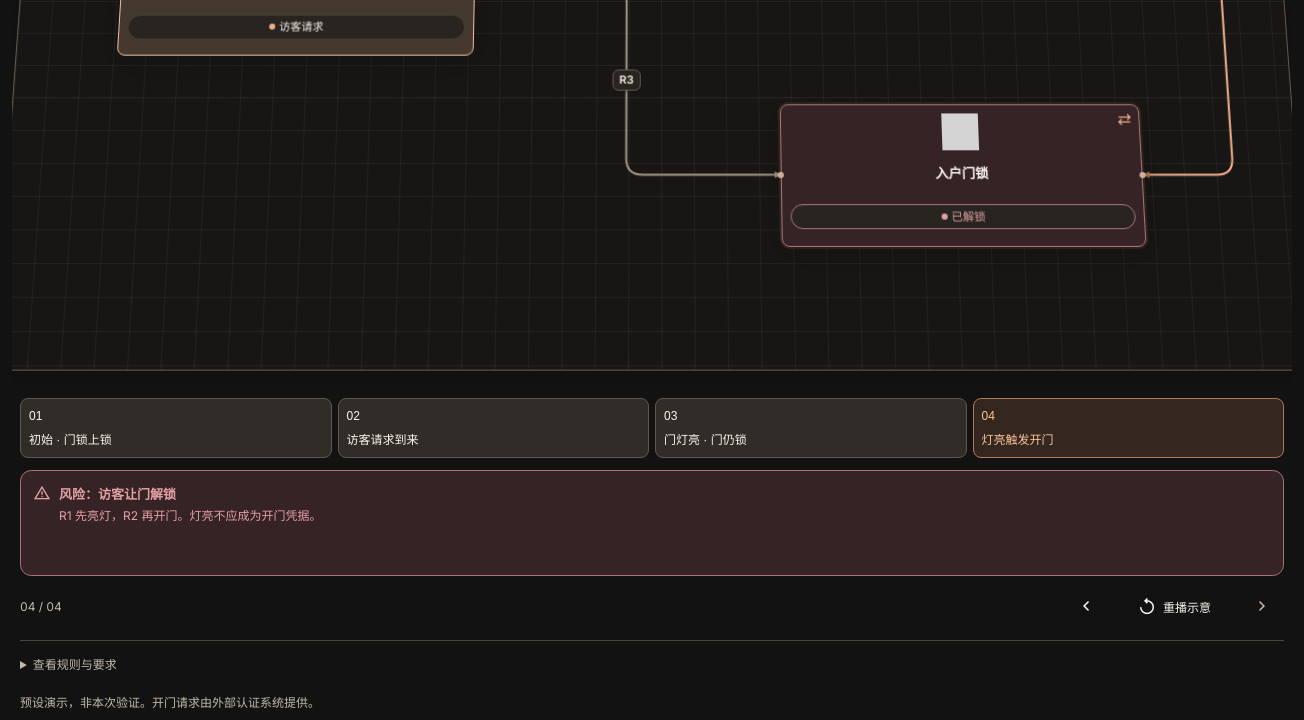
Scenario: illustrative topology showcase › keeps all steps usable without spatial animation under reduced motion
(page scrolled)
Expected: the button with class "showcase-replay" is shown, [1114,584,1234,628]
Expected: the message with class "showcase-counterexample" shows "风险：访客让门解锁", [59,486,176,502]
Click the button "01 初始 · 门锁上锁": [70, 440] box [20,398,332,458]
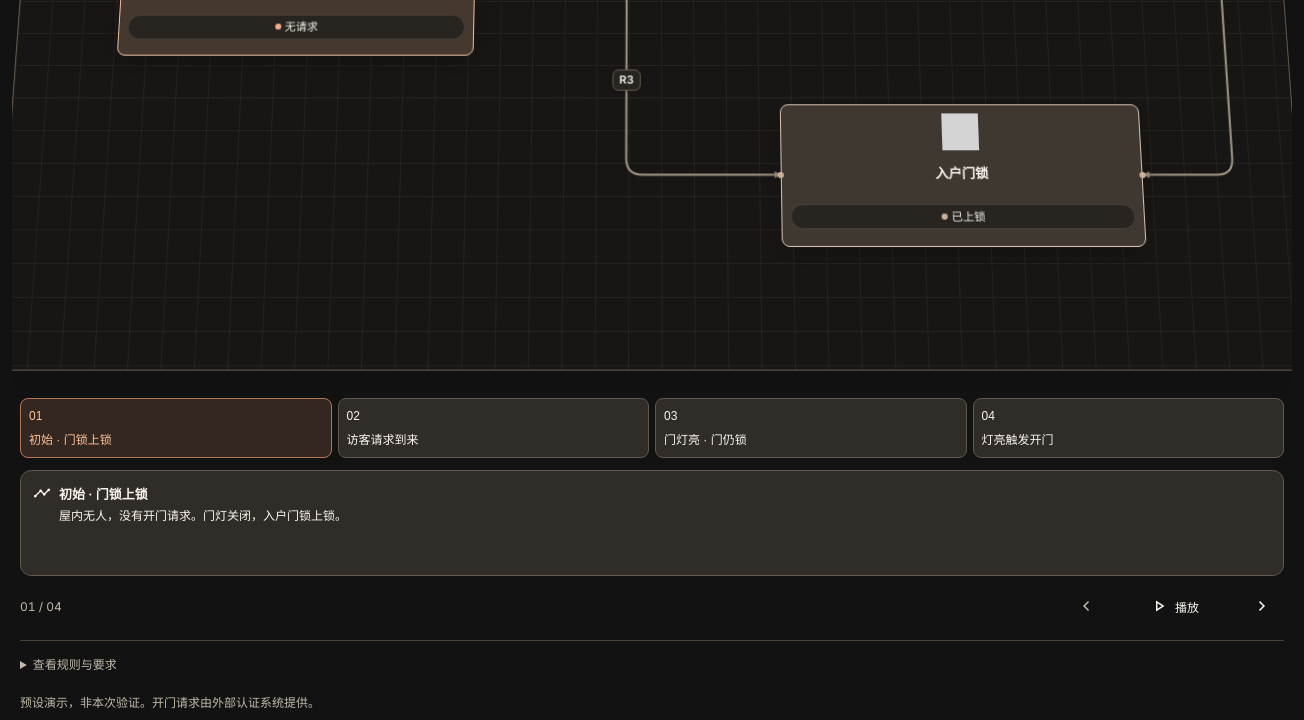
Expected: the element with class "showcase-node__state" reads "已上锁", [951,209,986,224]
Click the button with class "showcase-replay": [1174, 606] box [1114,584,1234,628]
Wait 4200 ms
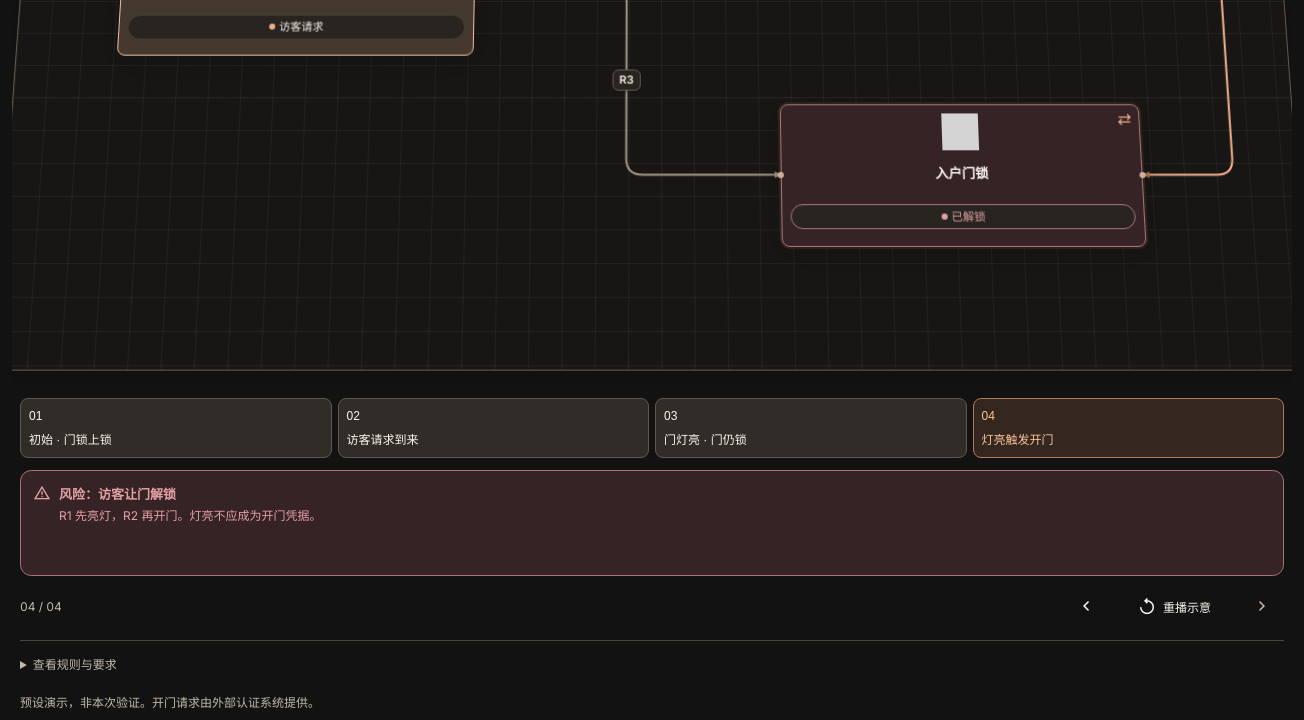
Expected: the element with class "showcase-node__state" reads "已解锁", [951,209,986,224]
